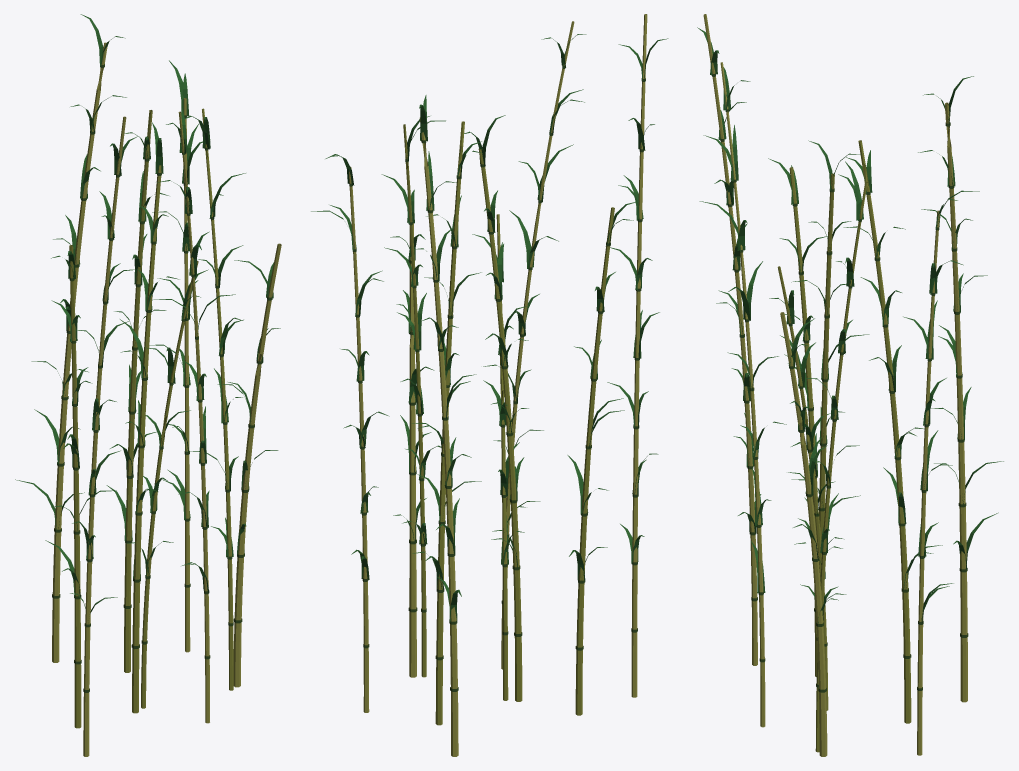
Rendered from bamboo_stand_v1.glb.
3 views of the same model, side by side, from view 1: azimuth 30°, elevation 25°; view 2: azimuth 150°, elevation 25°; view 3: azimuth 270°, elevation 25° (orthographic).
Visible parts, largest first — view 1: bamboo_stand_v1; view 2: bamboo_stand_v1; view 3: bamboo_stand_v1.
Part boxes in pixels (<box>): bamboo_stand_v1: <box>15,14,281,756</box>; bamboo_stand_v1: <box>311,14,668,756</box>; bamboo_stand_v1: <box>697,14,1003,756</box>.
Size of the model in its own units: 1.69 by 4.47 by 1.9.
